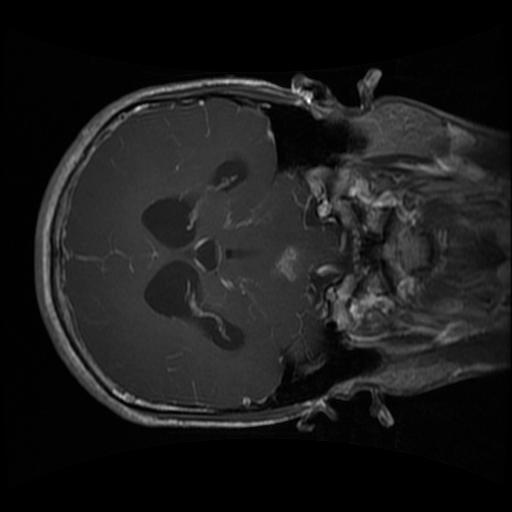glioma: (267, 244, 308, 286)
